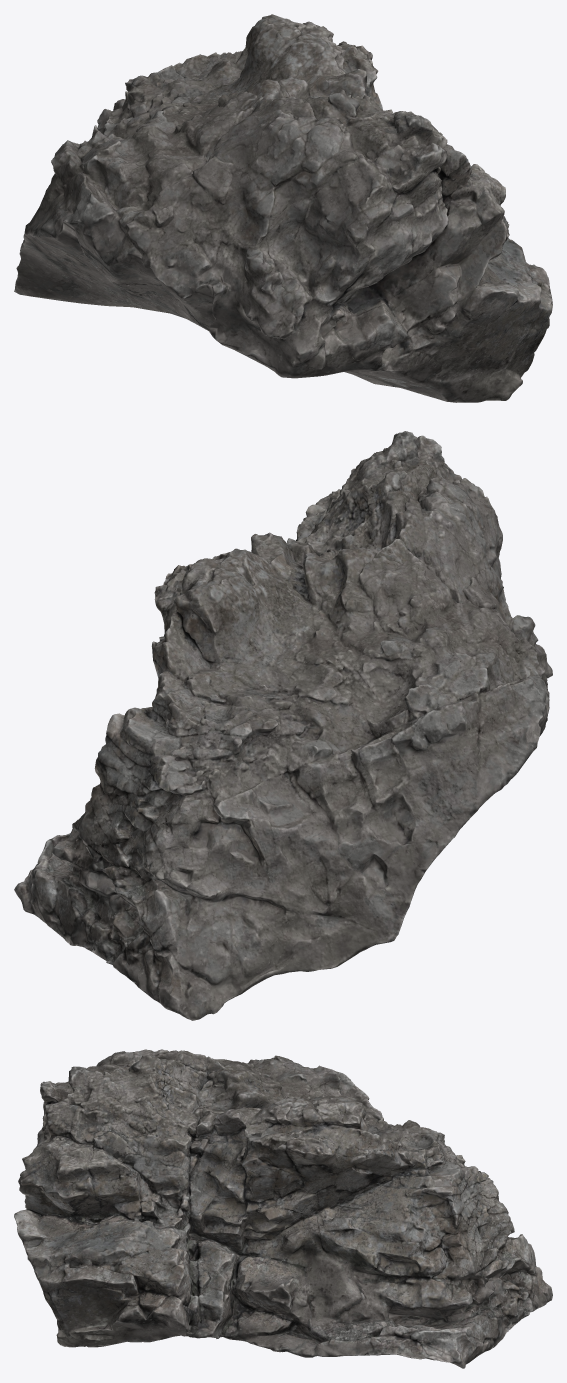
Rendered from boulder_01.gltf.
3 views of the same model, one above another, from view 1: azimuth 30°, elevation 25°; view 2: azimuth 150°, elevation 25°; view 3: azimuth 270°, elevation 25° (orthographic). The views are drawn at different scales.
Parts seen in each view (by area): view 1: boulder_01; view 2: boulder_01; view 3: boulder_01.
Boxes of the visible parts, box(x1,y1,x2,y2) form: boulder_01: box(14, 14, 552, 402); boulder_01: box(14, 431, 552, 1020); boulder_01: box(14, 1049, 552, 1368).
Bounding box in the file's own units: 1.27 × 1 × 1.83.
Materials: 1 (1 with a texture image).
